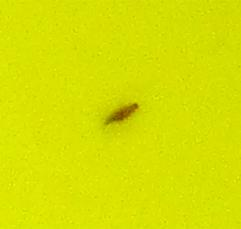Trichoptera: (100, 100, 141, 129)
